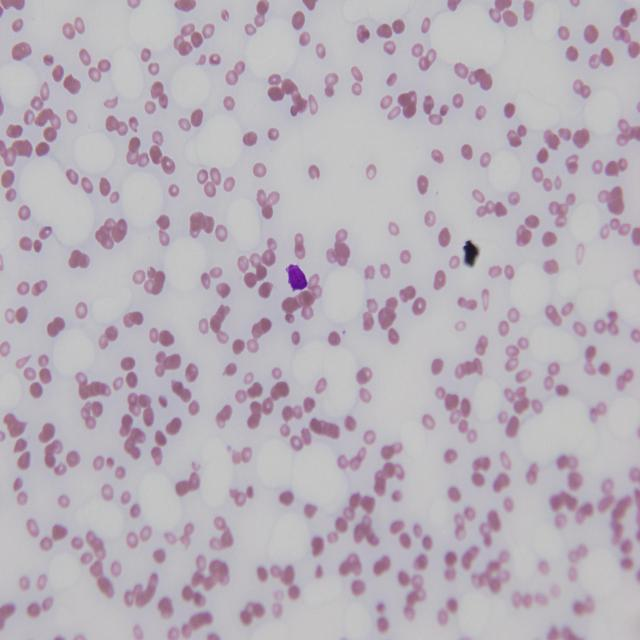cell: (286, 265, 308, 290)
